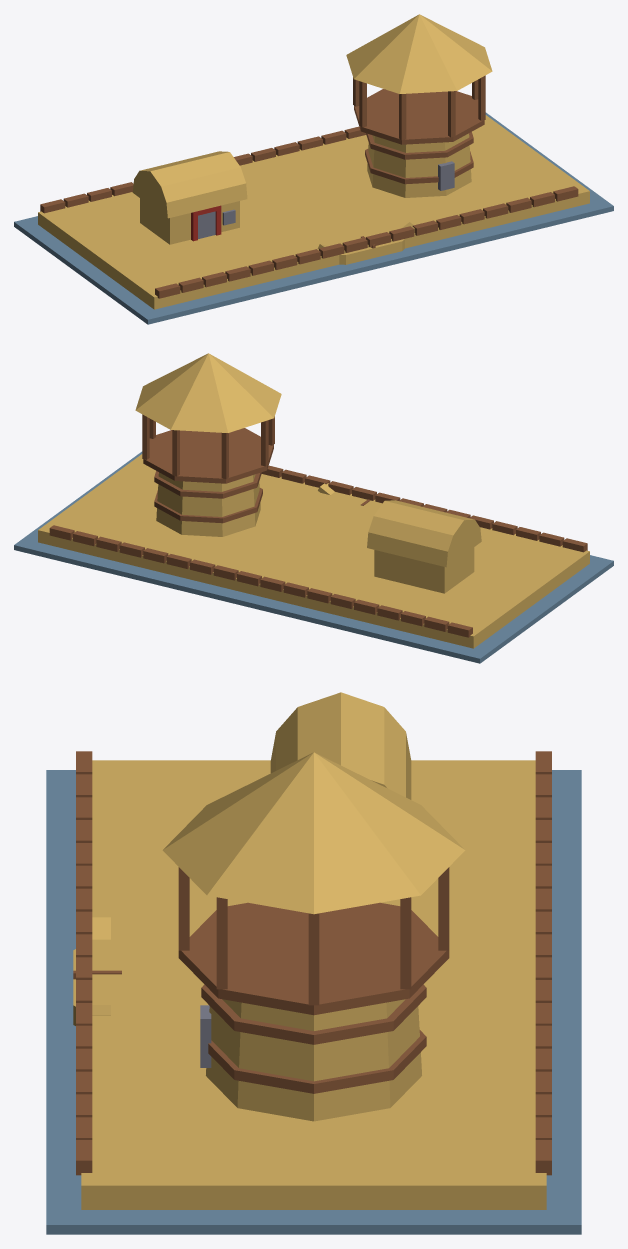
The model's file is house-2x1-1f-totora-a.glb.
The picture shows the model from 3 angles, top to bottom: view 1: azimuth 30°, elevation 25°; view 2: azimuth 150°, elevation 25°; view 3: azimuth 270°, elevation 25°; orthographic projection. The views are drawn at different scales.
Parts seen in each view (by area): view 1: house-2x1-1f-totora-a; view 2: house-2x1-1f-totora-a; view 3: house-2x1-1f-totora-a.
Part boxes in pixels (x1,y1,x2,y2): house-2x1-1f-totora-a: (14, 14, 613, 324); house-2x1-1f-totora-a: (14, 353, 613, 663); house-2x1-1f-totora-a: (46, 692, 581, 1234).
Size of the model in its own units: 1.99 by 0.73 by 0.99.
Materials: 1 (1 with a texture image).
